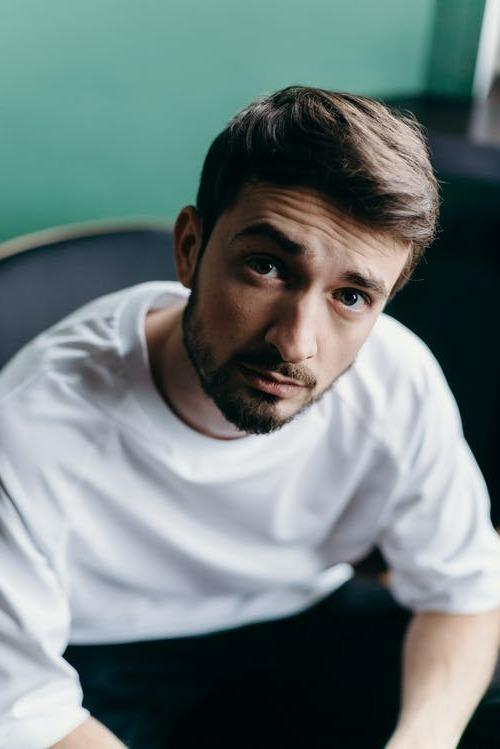Wrinkles: (255, 191, 387, 245), (249, 208, 349, 248), (323, 215, 381, 256), (264, 197, 321, 216), (330, 224, 348, 239), (350, 248, 364, 255)
